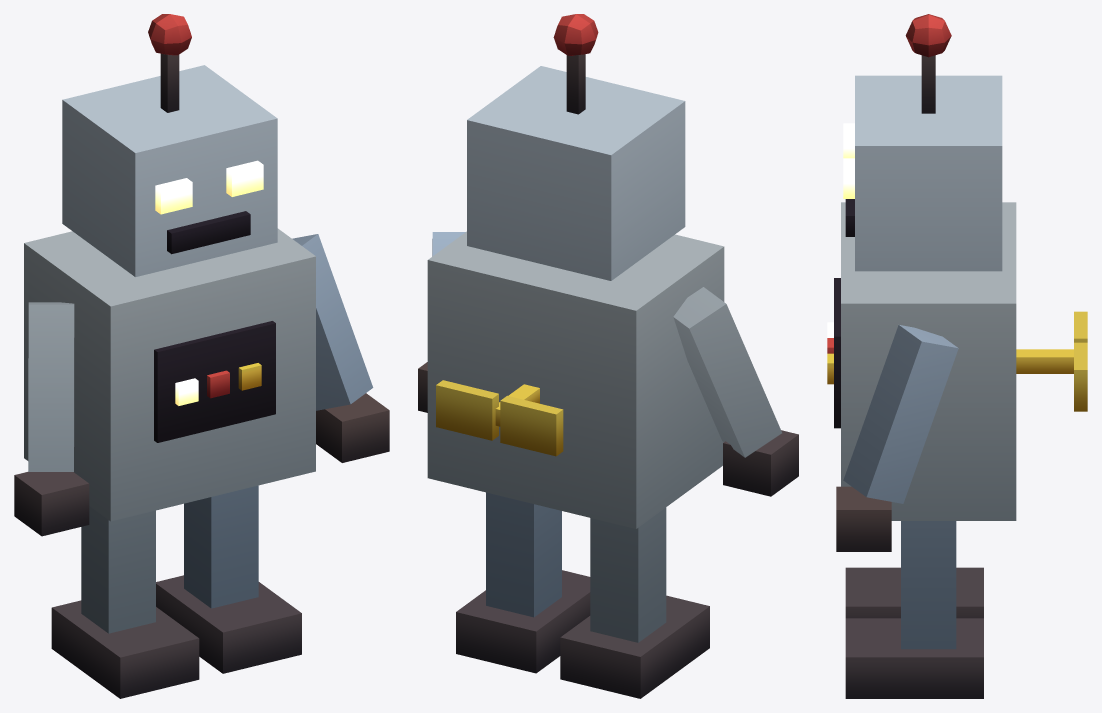
The model's file is PlayGround_Kit_Tin_Robot.fbx.
3 views of the same model, side by side, from view 1: azimuth 30°, elevation 25°; view 2: azimuth 150°, elevation 25°; view 3: azimuth 270°, elevation 25° (orthographic).
Parts seen in each view (by area): view 1: PlayGround_Kit_Tin_Robot; view 2: PlayGround_Kit_Tin_Robot; view 3: PlayGround_Kit_Tin_Robot.
Boxes of the visible parts, x1,y1,x2,y2 form: PlayGround_Kit_Tin_Robot: (14,14,389,698); PlayGround_Kit_Tin_Robot: (418,14,798,698); PlayGround_Kit_Tin_Robot: (827,14,1087,698).
Bounding box in the file's own units: 0.88 × 1.53 × 0.565.
